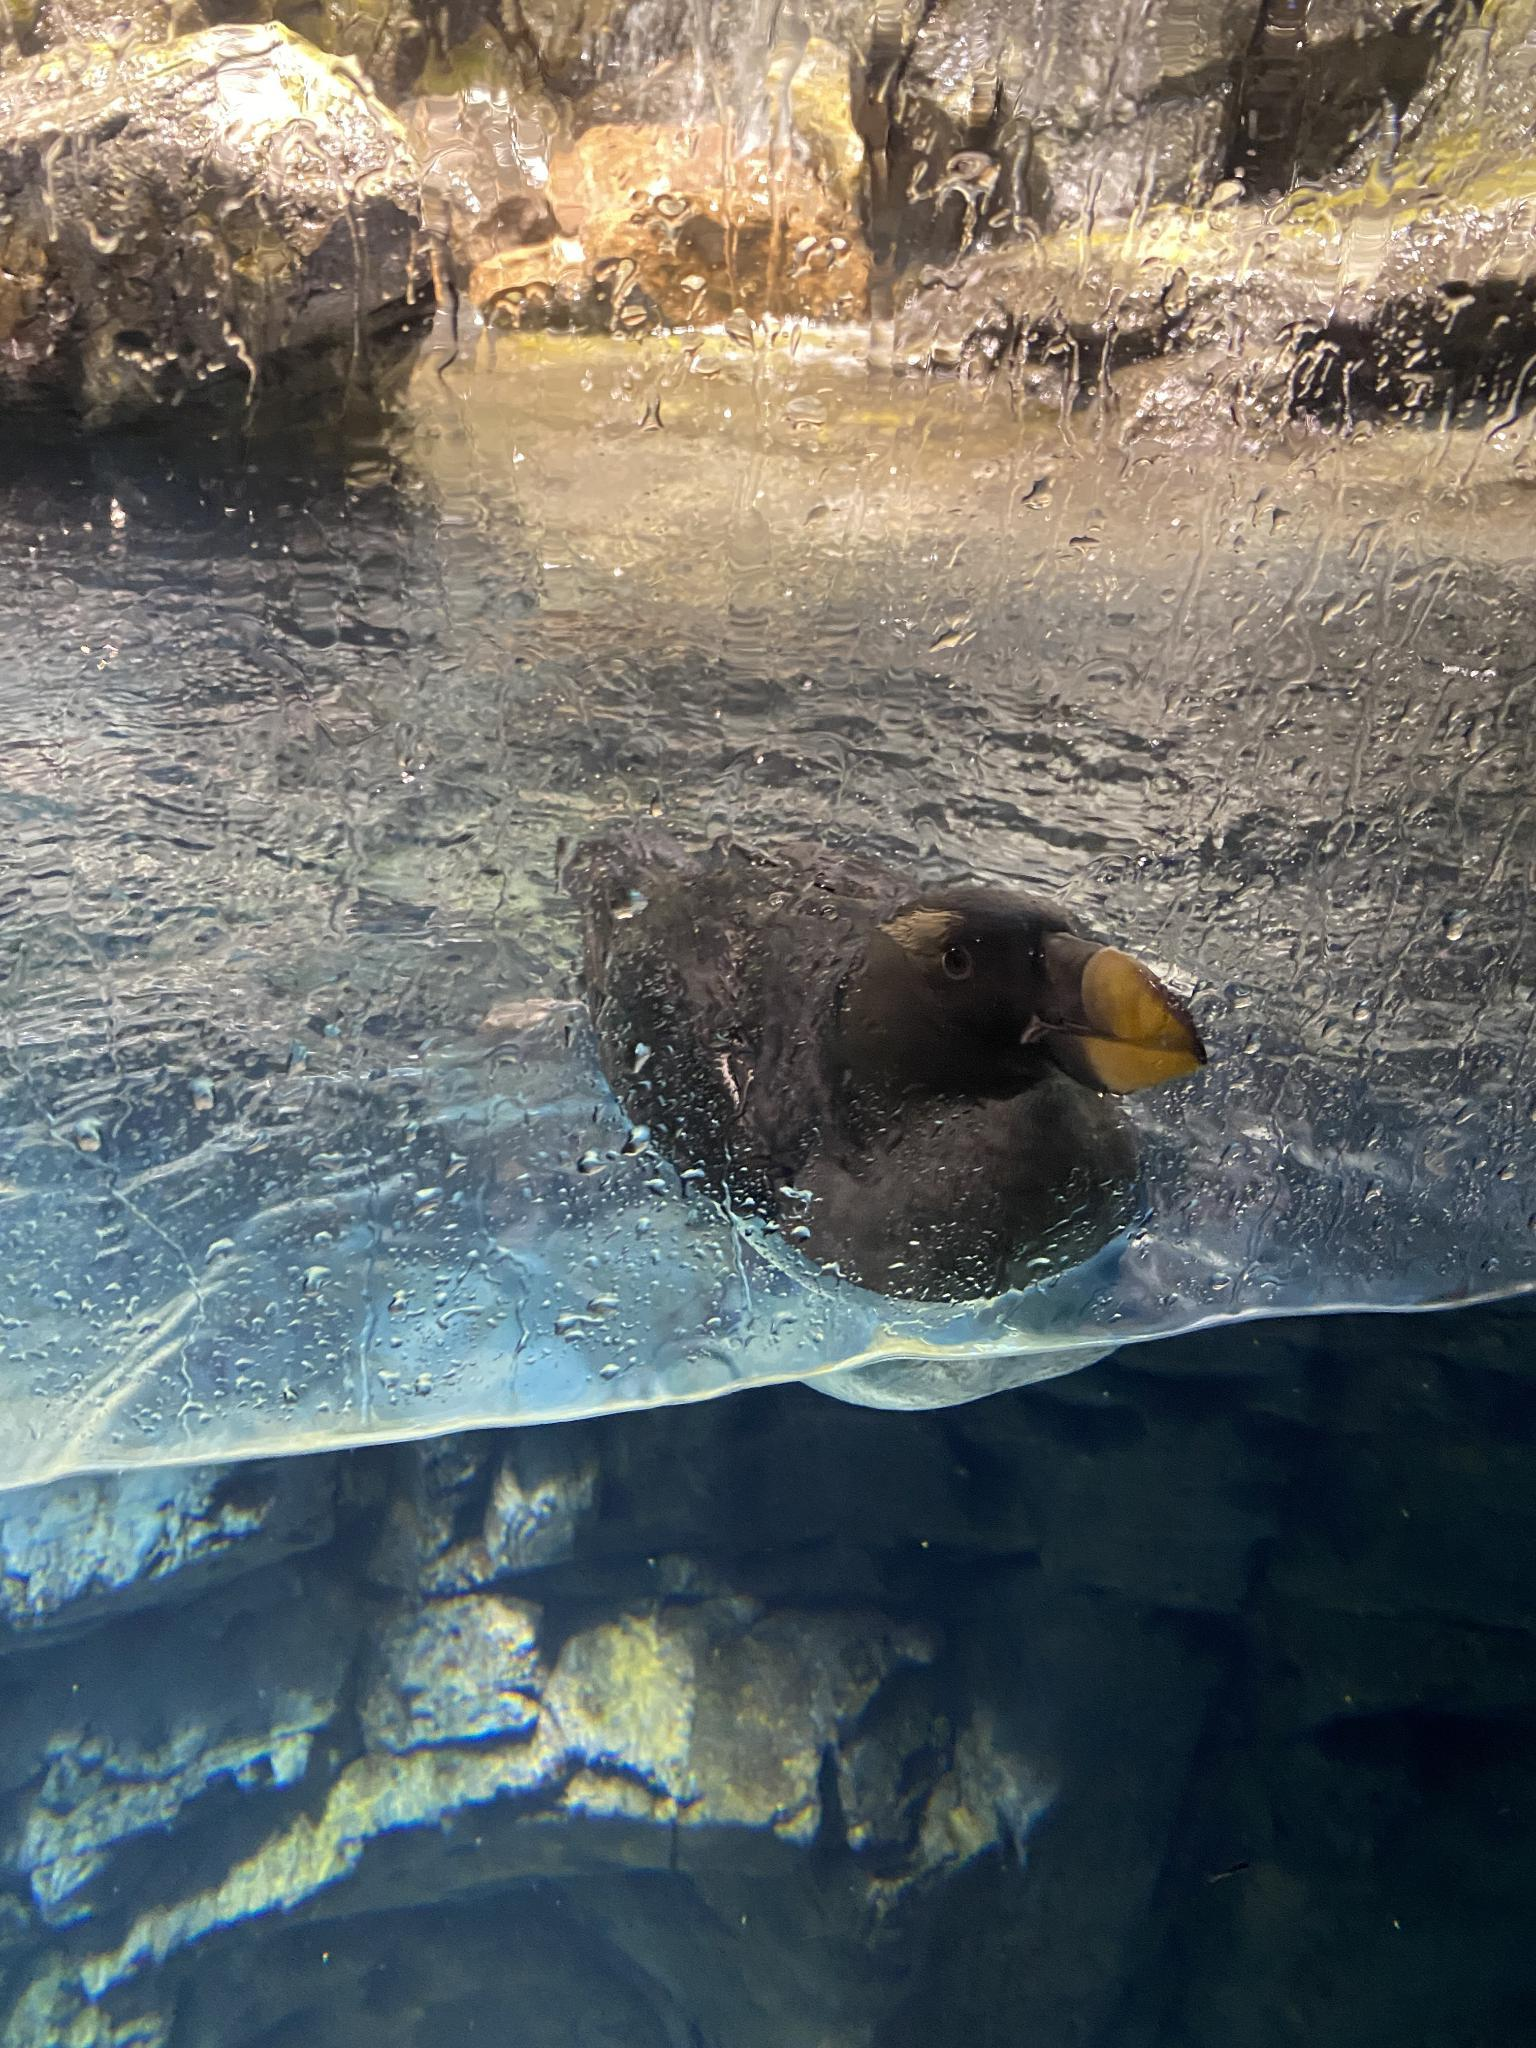puffin: (553, 776, 1217, 1417)
